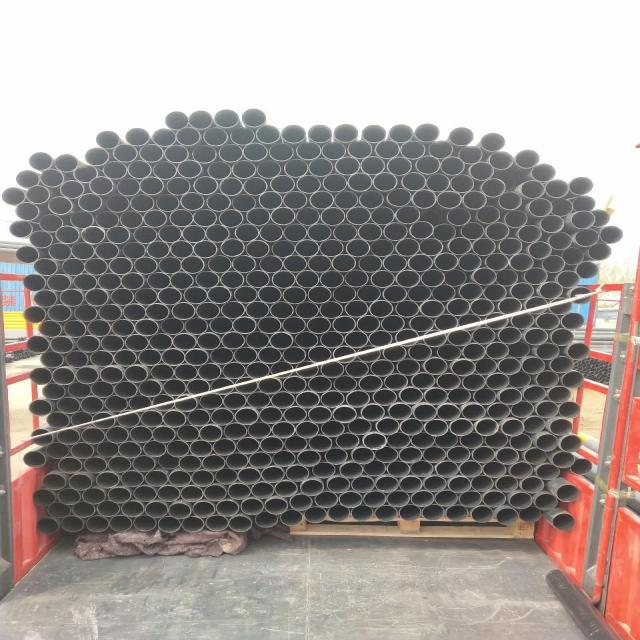pipe: (258, 222, 282, 242), (395, 358, 421, 376), (156, 286, 182, 304), (282, 254, 308, 272), (191, 145, 217, 163), (217, 144, 243, 162), (242, 142, 268, 160), (569, 285, 592, 305), (387, 187, 411, 206), (387, 402, 412, 420), (332, 405, 357, 423), (263, 497, 288, 515), (239, 497, 264, 515), (333, 374, 358, 392), (423, 357, 448, 375), (409, 314, 434, 332), (469, 298, 494, 316), (516, 224, 541, 242), (54, 225, 79, 243), (270, 207, 295, 225), (395, 205, 420, 223), (358, 189, 383, 207), (372, 172, 397, 190), (469, 161, 494, 179), (163, 144, 188, 162), (296, 142, 321, 160), (347, 140, 372, 158), (400, 141, 425, 159), (414, 123, 439, 141), (333, 123, 358, 141), (306, 124, 331, 142), (187, 110, 212, 128), (296, 206, 319, 225), (534, 493, 558, 511), (398, 446, 422, 464), (294, 420, 318, 438), (376, 417, 400, 435), (448, 418, 472, 436), (549, 418, 573, 436), (308, 406, 332, 424), (56, 487, 80, 505), (548, 386, 572, 404), (536, 369, 560, 387), (282, 375, 306, 393), (222, 361, 246, 379), (294, 360, 318, 378), (345, 360, 369, 378), (370, 358, 394, 376), (74, 334, 98, 352), (124, 334, 148, 352), (395, 328, 419, 346), (498, 326, 522, 344), (72, 304, 96, 322), (395, 299, 419, 317), (459, 282, 483, 300), (97, 272, 121, 290), (294, 269, 318, 287), (370, 270, 394, 288), (396, 269, 420, 287), (408, 253, 432, 271), (133, 256, 157, 274), (192, 240, 216, 258), (244, 239, 268, 257), (270, 239, 294, 257), (395, 238, 419, 256), (574, 228, 598, 246), (548, 232, 572, 250), (485, 222, 509, 240), (383, 222, 407, 240), (358, 222, 382, 240), (234, 223, 258, 241), (181, 224, 205, 242), (157, 225, 181, 243), (80, 225, 104, 243), (119, 210, 143, 228), (521, 180, 545, 198), (545, 180, 569, 198), (310, 191, 334, 209), (77, 193, 101, 211), (47, 196, 71, 214), (14, 202, 38, 220), (25, 185, 49, 203), (14, 170, 38, 188), (39, 168, 63, 186), (60, 179, 84, 197), (426, 173, 450, 191), (489, 150, 513, 168), (480, 132, 504, 150), (416, 155, 440, 173), (388, 156, 412, 174), (308, 158, 332, 176), (256, 160, 280, 178), (231, 160, 255, 178), (177, 159, 201, 177), (102, 161, 126, 179), (85, 147, 109, 165), (138, 144, 162, 162), (268, 142, 292, 160), (375, 140, 399, 158), (428, 140, 452, 158), (388, 124, 412, 142), (281, 124, 305, 142), (256, 125, 280, 143), (230, 126, 254, 144), (203, 127, 227, 145), (152, 127, 176, 145), (214, 109, 238, 127), (240, 109, 264, 127), (434, 489, 459, 506), (214, 500, 239, 517), (80, 427, 105, 444), (420, 300, 445, 317), (530, 163, 555, 180), (323, 141, 345, 160), (372, 388, 398, 404), (85, 515, 108, 533), (109, 514, 132, 532), (303, 506, 326, 524), (399, 503, 422, 521), (446, 504, 469, 522), (556, 484, 579, 502), (338, 490, 361, 508), (524, 447, 547, 465), (484, 430, 507, 448), (425, 418, 448, 436), (475, 418, 498, 436), (501, 418, 524, 436), (510, 400, 533, 418), (283, 405, 306, 423), (192, 500, 215, 518), (121, 500, 144, 518), (180, 484, 203, 502), (58, 456, 81, 474), (260, 435, 283, 453), (213, 438, 236, 456), (359, 374, 382, 392), (258, 376, 281, 394), (235, 376, 258, 394), (320, 360, 343, 378), (549, 355, 572, 373), (138, 348, 161, 366), (149, 332, 172, 350), (320, 330, 343, 348), (369, 330, 392, 348), (511, 311, 534, 329), (145, 302, 168, 320), (269, 300, 292, 318), (483, 283, 506, 301), (357, 284, 380, 302), (333, 284, 356, 302), (111, 288, 134, 306), (85, 288, 108, 306), (60, 289, 83, 307), (120, 272, 143, 290), (195, 270, 218, 288), (220, 270, 243, 288), (246, 269, 269, 287), (495, 268, 518, 286), (557, 270, 580, 288), (434, 252, 457, 270), (383, 254, 406, 272), (359, 254, 382, 272), (109, 256, 132, 274), (34, 258, 57, 276), (15, 245, 38, 263), (48, 242, 71, 260), (146, 240, 169, 258), (170, 240, 193, 258), (499, 237, 522, 255), (461, 222, 484, 240), (432, 223, 455, 241), (333, 222, 356, 240), (283, 223, 306, 241), (206, 224, 229, 242), (133, 225, 156, 243), (106, 225, 129, 243), (8, 220, 31, 238), (170, 209, 193, 227), (219, 209, 242, 227), (246, 207, 269, 225), (371, 206, 394, 224), (541, 214, 564, 232), (482, 178, 505, 196), (463, 190, 486, 208), (413, 190, 436, 208), (231, 193, 254, 211), (1, 187, 24, 205), (28, 152, 51, 170), (54, 154, 77, 172), (139, 176, 162, 194), (193, 176, 216, 194), (243, 177, 266, 195), (271, 175, 294, 193), (322, 173, 345, 191), (348, 172, 371, 190), (402, 172, 425, 190), (450, 174, 473, 192), (361, 156, 384, 174), (335, 156, 358, 174), (284, 159, 307, 177), (207, 161, 230, 179), (153, 161, 176, 179), (128, 160, 151, 178), (95, 130, 118, 148), (450, 127, 473, 145), (362, 124, 385, 142), (176, 126, 199, 144), (471, 446, 495, 463), (422, 446, 446, 463), (296, 449, 320, 466), (320, 419, 344, 436), (144, 501, 168, 518), (46, 501, 70, 518), (132, 485, 156, 502), (203, 484, 227, 501), (485, 372, 509, 389), (461, 373, 485, 390), (197, 363, 221, 380), (268, 362, 292, 379), (458, 313, 482, 330), (434, 314, 458, 331), (369, 300, 393, 317), (307, 286, 331, 303), (46, 274, 70, 291), (345, 269, 369, 286), (331, 254, 355, 271), (231, 255, 255, 272), (70, 242, 94, 259), (320, 207, 344, 224), (346, 207, 370, 224), (130, 194, 154, 211), (73, 165, 97, 182), (89, 177, 113, 194), (422, 476, 447, 492), (459, 432, 484, 448), (106, 487, 131, 503), (226, 483, 251, 499), (320, 391, 345, 407), (208, 348, 233, 364), (195, 333, 220, 349), (431, 284, 456, 300), (145, 272, 170, 288), (552, 512, 574, 530), (560, 434, 582, 452), (509, 433, 531, 451), (522, 416, 544, 434), (558, 400, 580, 418), (488, 402, 510, 420), (251, 481, 273, 499), (157, 452, 179, 470), (412, 372, 434, 390), (499, 357, 521, 375), (568, 342, 590, 360), (173, 332, 195, 350), (472, 326, 494, 344), (112, 318, 134, 336), (525, 296, 547, 314), (550, 296, 572, 314), (282, 286, 304, 304), (23, 273, 45, 291), (474, 267, 496, 285), (221, 238, 243, 256), (371, 238, 393, 256), (420, 238, 442, 256), (449, 237, 471, 255), (528, 241, 550, 259), (96, 210, 118, 228), (477, 205, 499, 223), (505, 210, 527, 228), (573, 210, 595, 228), (588, 209, 610, 227), (500, 191, 522, 209), (335, 190, 357, 208), (259, 191, 281, 209), (297, 175, 319, 193), (516, 150, 538, 168), (442, 157, 464, 175), (114, 143, 136, 161), (165, 111, 187, 129), (157, 516, 180, 533), (496, 447, 519, 464), (437, 404, 460, 421), (259, 407, 282, 424), (274, 480, 297, 497), (224, 452, 247, 469), (384, 374, 407, 391), (522, 357, 545, 374), (536, 312, 559, 329), (47, 304, 70, 321), (345, 299, 368, 316), (446, 298, 469, 315), (510, 282, 533, 299), (208, 286, 231, 303), (421, 269, 444, 286), (458, 253, 481, 270), (181, 255, 204, 272), (473, 238, 496, 255), (409, 221, 432, 238), (308, 223, 331, 240), (193, 209, 216, 226), (116, 178, 139, 195), (166, 177, 189, 194), (459, 145, 482, 162), (204, 515, 228, 531), (313, 492, 337, 508), (446, 446, 470, 462), (311, 462, 335, 478), (386, 432, 410, 448), (362, 433, 386, 449), (335, 432, 359, 448), (461, 404, 485, 420), (96, 501, 120, 517), (71, 501, 95, 517), (80, 488, 104, 504), (260, 466, 284, 482), (201, 454, 225, 470), (234, 408, 258, 424), (45, 412, 69, 428), (55, 397, 79, 413), (186, 378, 210, 394), (173, 364, 197, 380), (246, 362, 270, 378), (451, 359, 475, 375), (485, 341, 509, 357), (282, 347, 306, 363), (184, 348, 208, 364), (113, 350, 137, 366), (40, 351, 64, 367), (24, 336, 48, 352), (221, 331, 245, 347), (268, 332, 292, 348), (448, 329, 472, 345), (332, 316, 356, 332), (257, 316, 281, 332), (209, 317, 233, 333), (38, 320, 62, 336), (221, 302, 245, 318), (318, 301, 342, 317), (183, 287, 207, 303), (169, 272, 193, 288), (319, 270, 343, 286), (524, 267, 548, 283), (508, 253, 532, 269), (122, 241, 146, 257), (295, 240, 319, 256), (320, 239, 344, 255), (125, 128, 149, 144), (37, 517, 58, 535), (497, 508, 518, 526), (31, 428, 52, 446), (34, 289, 55, 307), (543, 254, 564, 272), (85, 258, 106, 276), (40, 214, 61, 232), (107, 194, 128, 212), (436, 344, 461, 359), (422, 504, 444, 521), (309, 435, 331, 452), (191, 469, 213, 486), (142, 440, 164, 457), (64, 320, 86, 337), (347, 239, 369, 256), (143, 210, 165, 227), (448, 208, 470, 225), (283, 191, 305, 208), (156, 193, 178, 210), (61, 516, 84, 532), (133, 515, 156, 531), (229, 516, 252, 532), (255, 511, 278, 527), (280, 509, 303, 525), (375, 506, 398, 522), (509, 492, 532, 508), (459, 490, 482, 506), (386, 490, 409, 506), (363, 490, 386, 506), (289, 494, 312, 510), (448, 476, 471, 492), (399, 476, 422, 492), (375, 476, 398, 492), (351, 476, 374, 492), (300, 480, 323, 496), (411, 432, 434, 448), (284, 436, 307, 452), (400, 419, 423, 435), (535, 401, 558, 417), (413, 404, 436, 420), (361, 404, 384, 420), (32, 490, 55, 506), (157, 485, 180, 501), (214, 468, 237, 484), (144, 470, 167, 486), (95, 472, 118, 488), (68, 473, 91, 489), (132, 455, 155, 471), (236, 437, 259, 453), (189, 440, 212, 456), (46, 442, 69, 458), (210, 408, 233, 424), (140, 410, 163, 426), (296, 391, 319, 407), (346, 390, 369, 406), (424, 388, 447, 404), (473, 388, 496, 404), (523, 386, 546, 402), (308, 376, 331, 392), (163, 379, 186, 395), (90, 381, 113, 397), (42, 383, 65, 399), (99, 367, 122, 383), (123, 365, 146, 381), (150, 364, 173, 380), (408, 343, 431, 359), (356, 346, 379, 362), (258, 347, 281, 363), (161, 349, 184, 365), (90, 350, 113, 366), (48, 336, 71, 352), (100, 335, 123, 351), (246, 332, 269, 348), (344, 330, 367, 346), (423, 330, 446, 346), (307, 317, 330, 333), (281, 316, 304, 332), (184, 318, 207, 334), (161, 318, 184, 334), (135, 319, 158, 335), (87, 320, 110, 336), (98, 304, 121, 320), (122, 304, 145, 320), (196, 302, 219, 318), (295, 301, 318, 317), (498, 298, 521, 314), (408, 285, 431, 301), (383, 285, 406, 301), (258, 286, 281, 302), (234, 286, 257, 302), (134, 288, 157, 304), (271, 271, 294, 287), (444, 269, 467, 285), (208, 255, 231, 271), (29, 231, 52, 247), (570, 177, 593, 193), (180, 193, 203, 209), (347, 419, 371, 434), (82, 457, 106, 472), (234, 347, 258, 362), (577, 260, 597, 278), (309, 255, 329, 273), (553, 451, 574, 468), (167, 439, 188, 456), (530, 198, 551, 215), (182, 516, 204, 532), (328, 505, 350, 521), (351, 504, 373, 520), (470, 506, 492, 522), (519, 505, 541, 521), (483, 491, 505, 507), (521, 476, 543, 492), (471, 474, 493, 490), (327, 476, 349, 492), (375, 446, 397, 462), (324, 448, 346, 464), (435, 431, 457, 447), (168, 503, 190, 519), (178, 455, 200, 471), (249, 452, 271, 468), (273, 450, 295, 466), (96, 440, 118, 456), (71, 442, 93, 458), (57, 428, 79, 444), (106, 427, 128, 443), (153, 426, 175, 442), (200, 425, 222, 441), (187, 409, 209, 425), (163, 410, 185, 426), (448, 388, 470, 404), (562, 371, 584, 387), (509, 372, 531, 388), (438, 373, 460, 389), (211, 378, 233, 394), (67, 382, 89, 398), (29, 368, 51, 384), (52, 368, 74, 384), (474, 358, 496, 374), (463, 343, 485, 359), (383, 344, 405, 360), (334, 346, 356, 362), (295, 332, 317, 348), (525, 328, 547, 344), (550, 329, 572, 345), (382, 315, 404, 331), (356, 315, 378, 331), (233, 316, 255, 332), (22, 307, 44, 323), (172, 302, 194, 318), (247, 302, 269, 318), (540, 282, 562, 298), (74, 274, 96, 290), (485, 252, 507, 268), (259, 256, 281, 272), (159, 256, 181, 272), (588, 243, 610, 259), (600, 226, 622, 242), (71, 211, 93, 227), (551, 199, 573, 215), (438, 191, 460, 207), (219, 178, 241, 194), (410, 491, 433, 506), (536, 464, 559, 479), (237, 468, 260, 483), (168, 471, 191, 486), (120, 471, 143, 486), (42, 474, 65, 489), (22, 451, 45, 466), (399, 387, 422, 402), (499, 389, 522, 404), (137, 380, 160, 395), (113, 381, 136, 396), (64, 351, 87, 366), (496, 476, 517, 492), (571, 458, 592, 474), (352, 448, 373, 464), (536, 434, 557, 450), (107, 457, 131, 471), (119, 442, 140, 458), (130, 426, 151, 442), (224, 422, 245, 438), (28, 398, 49, 414), (537, 343, 558, 359), (562, 312, 583, 328), (487, 312, 508, 328), (62, 258, 83, 274), (97, 242, 118, 258), (562, 248, 583, 264), (421, 209, 442, 225), (208, 194, 229, 210), (507, 341, 529, 356), (285, 466, 308, 480), (104, 396, 127, 410), (308, 347, 331, 361), (572, 196, 595, 210), (72, 412, 92, 428), (118, 411, 139, 426), (272, 422, 294, 436), (80, 397, 102, 411), (128, 396, 150, 410), (200, 394, 222, 408), (246, 393, 268, 407), (75, 368, 97, 382), (154, 395, 174, 410), (177, 426, 198, 440), (249, 422, 270, 436), (272, 392, 293, 406), (94, 413, 114, 427), (224, 393, 244, 407), (175, 396, 196, 409)
